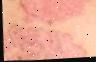plaque psoriasis: (1, 20, 96, 62), (11, 0, 93, 26)
